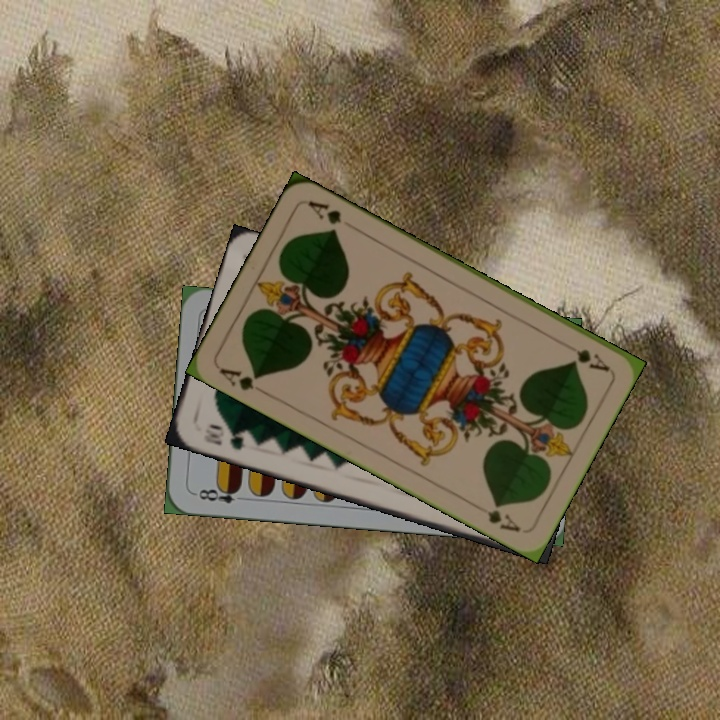E8: (190, 482, 249, 506)
G10: (199, 420, 249, 453)
GA: (558, 338, 613, 374), (215, 363, 269, 398)
